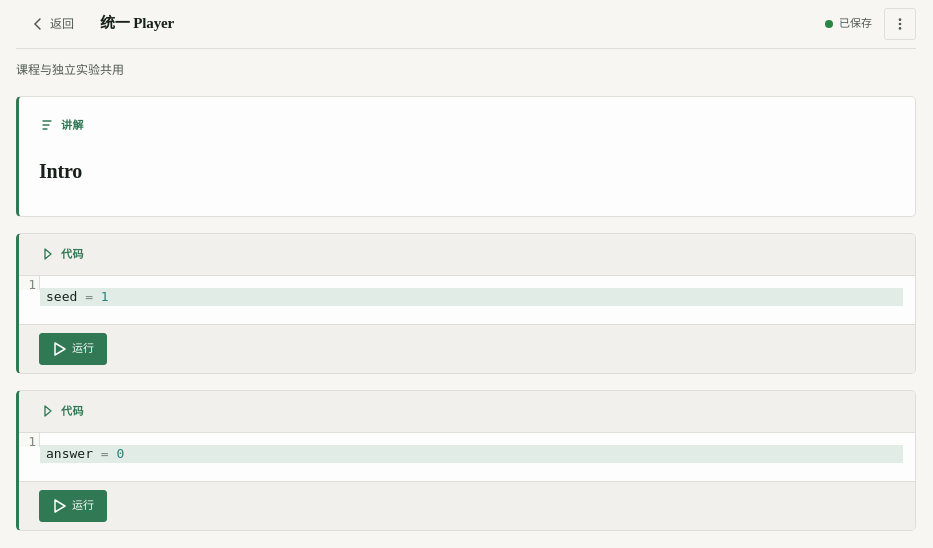
Scenario: NotebookPlayer › keeps advanced Kernel actions in the secondary menu
Expected: the text "重启 Kernel" is not shown
Click the button titled "更多操作": (900, 24) [884,8,916,40]
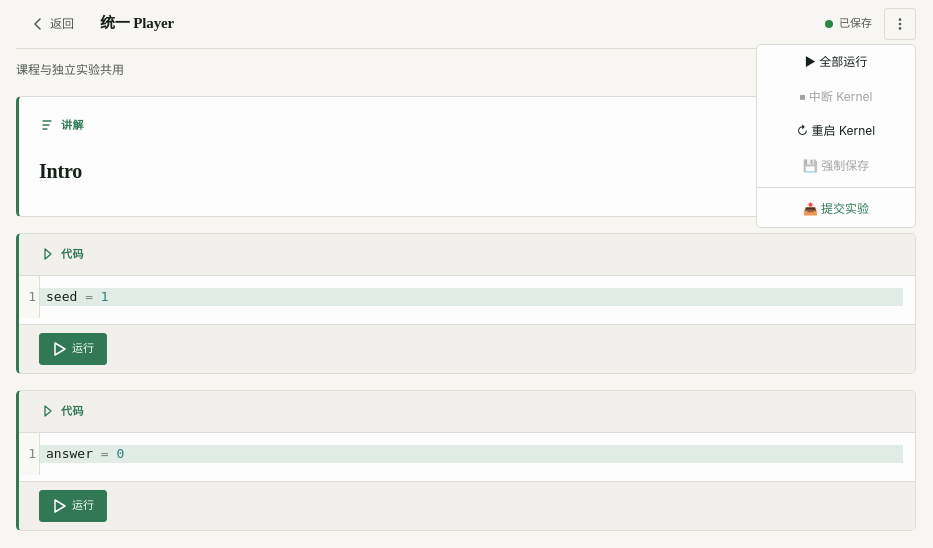
Expected: the text "全部运行" is shown, [757,45,915,80]
Expected: the text "中断 Kernel" is shown, [757,80,915,114]
Expected: the text "重启 Kernel" is shown, [757,114,915,149]
